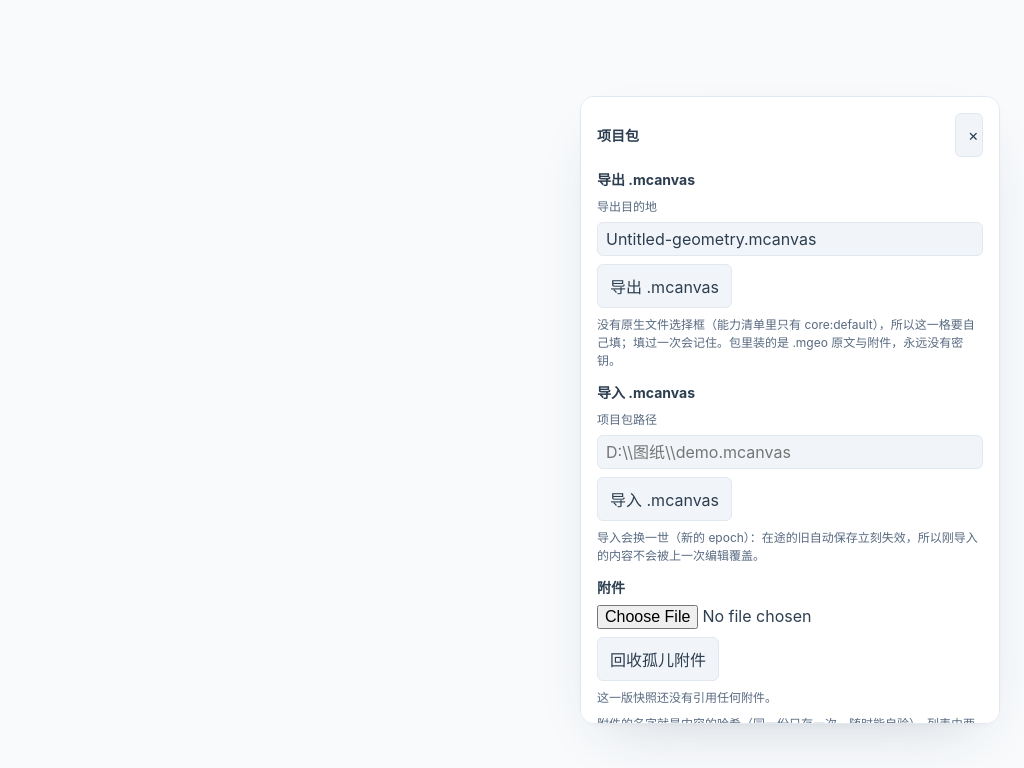
Scenario: 在浏览器里 › 如实说需要桌面版，而不是一句含糊的失败
Replace the text in the field named "导出到" with "D:\\out\\demo" at {"x": 790, "y": 239}, box [597,222,983,256]
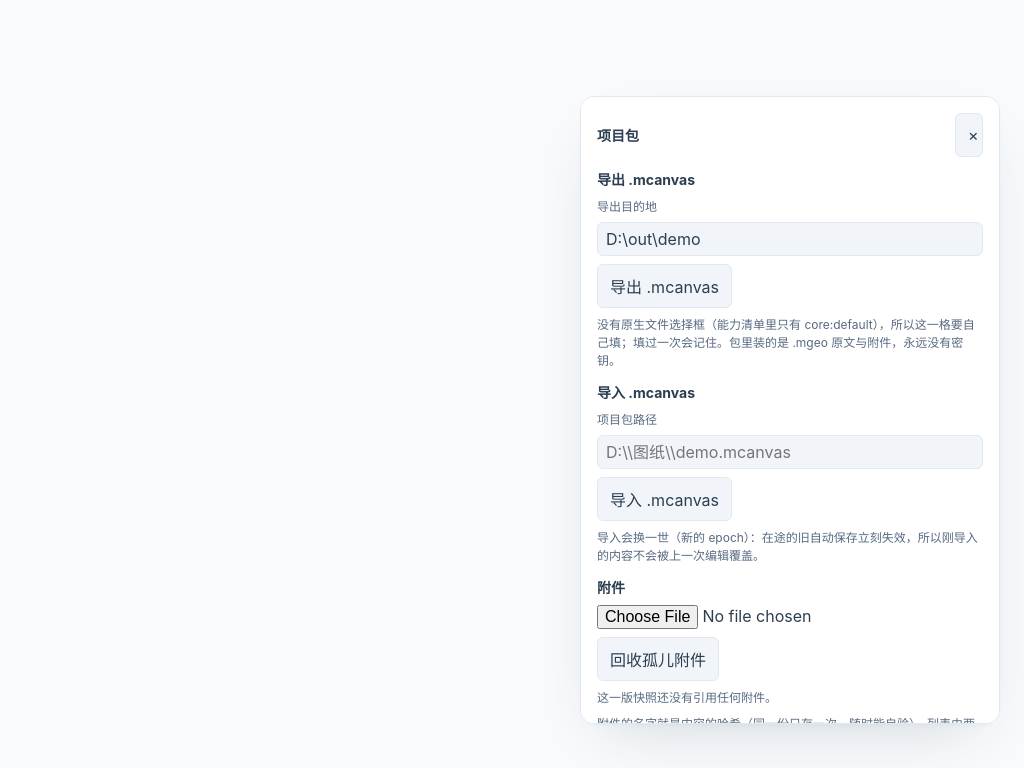
Click the button "导出 .mcanvas".
click(664, 286)  # box [597,264,732,308]
(page scrolled)
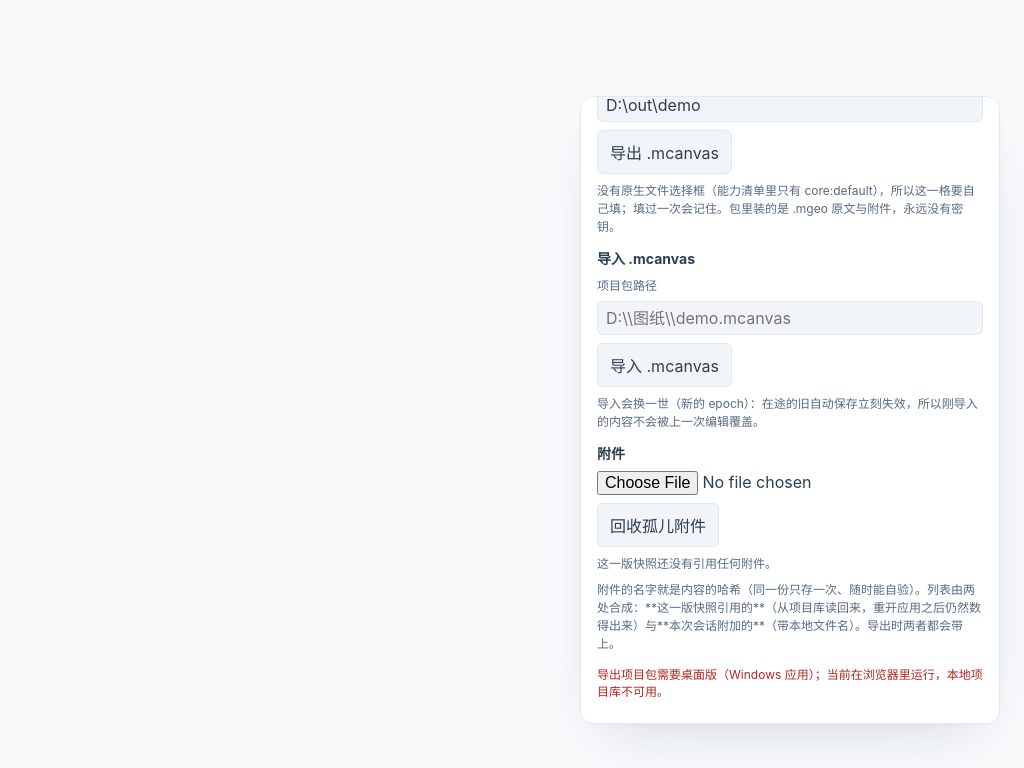
expect the text "需要桌面版" is shown: met, box [597,667,983,699]
